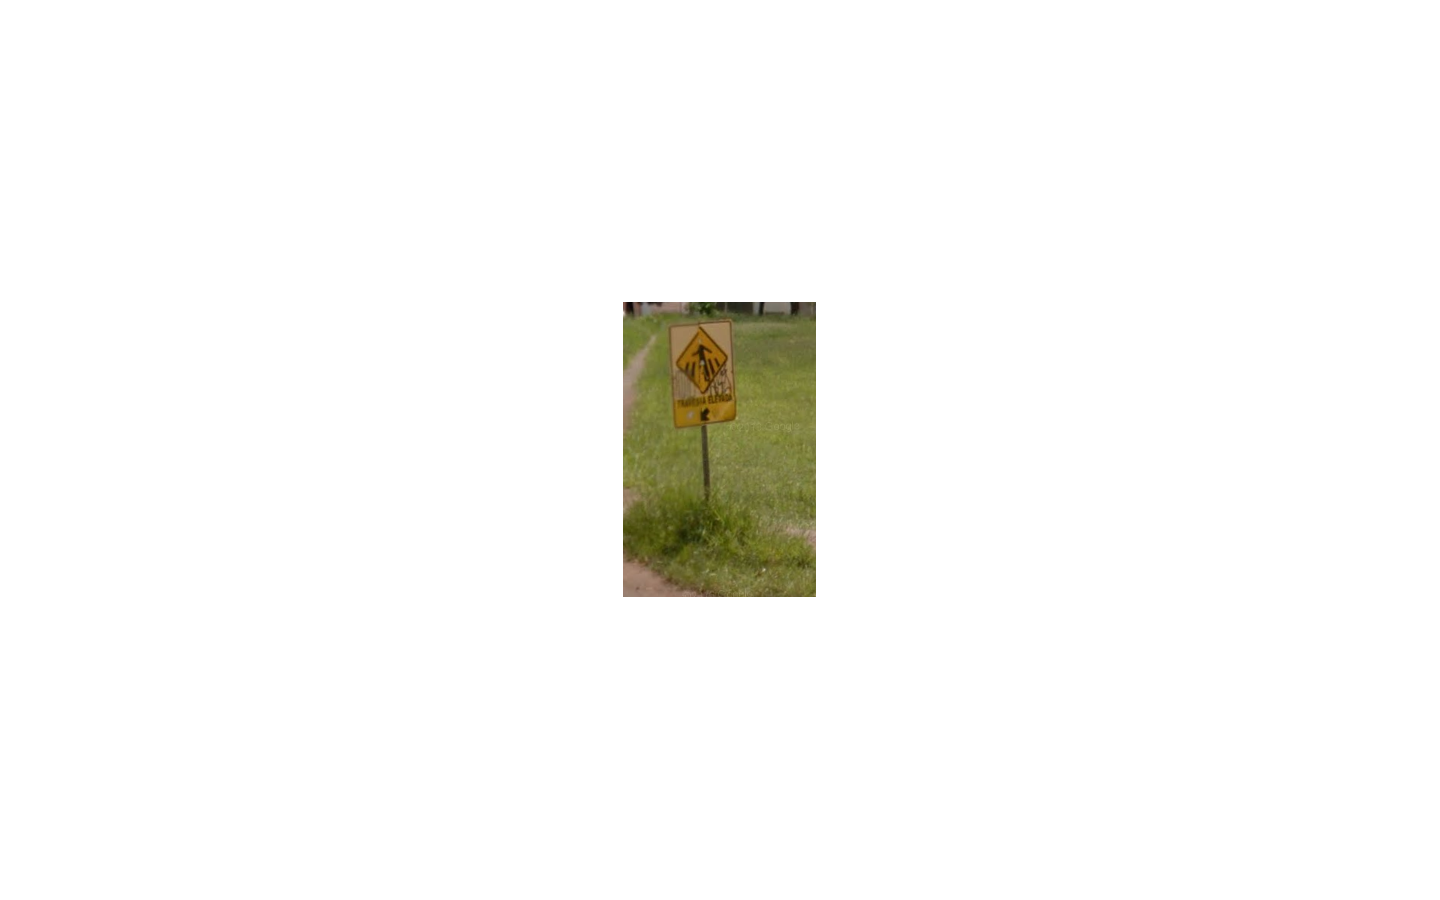telev: (668, 320, 736, 428)
